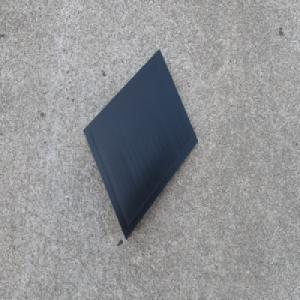PlasticPart: (82, 47, 198, 240)
